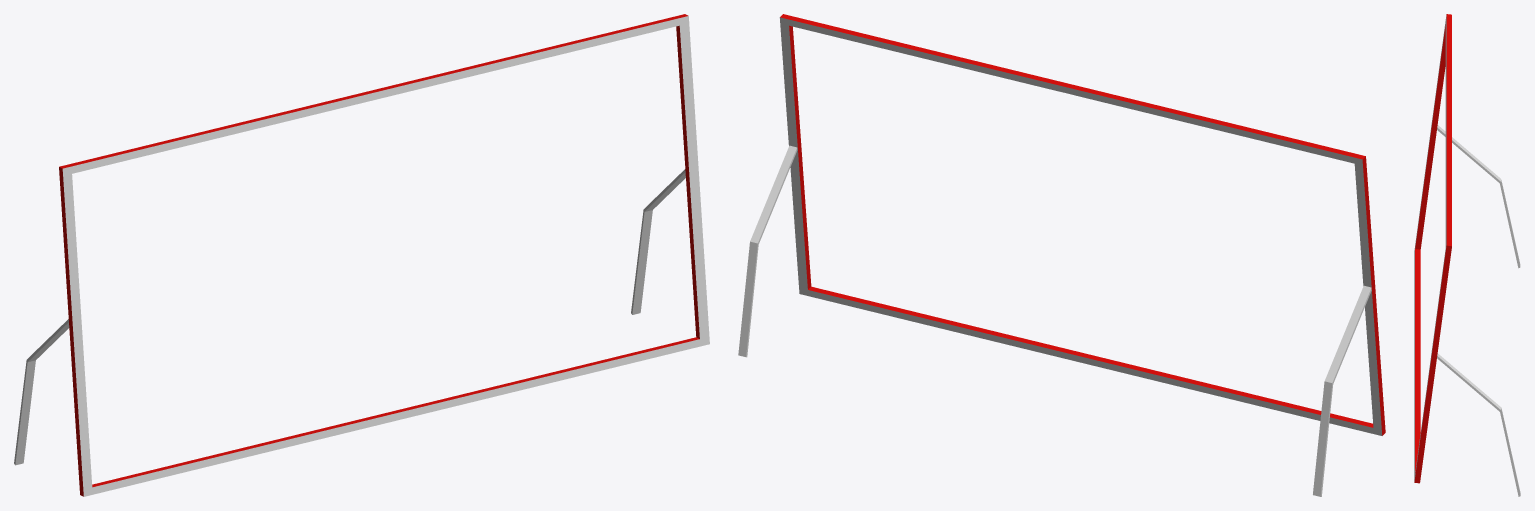
The model's file is yellow wall thing holder cardboard.fbx.
3 renders of one model, left to right at view 1: azimuth 30°, elevation 25°; view 2: azimuth 150°, elevation 25°; view 3: azimuth 270°, elevation 25°, orthographic. The views are drawn at different scales.
Parts seen in each view (by area): view 1: Cube, Plane.001, Plane.002; view 2: Cube, Plane.002, Plane.001; view 3: Cube, Plane.002, Plane.001.
Boxes of the visible parts, x1=… form: Cube: x1=59, y1=14, x2=709, y2=496; Plane.001: x1=14, y1=319, x2=69, y2=465; Plane.002: x1=631, y1=169, x2=685, y2=314; Cube: x1=779, y1=14, x2=1385, y2=435; Plane.002: x1=738, y1=145, x2=797, y2=357; Plane.001: x1=1313, y1=285, x2=1371, y2=496; Cube: x1=1414, y1=14, x2=1451, y2=483; Plane.002: x1=1437, y1=353, x2=1520, y2=496; Plane.001: x1=1437, y1=125, x2=1520, y2=268.
Size of the model in its own units: 6640 by 3363 by 1287.
